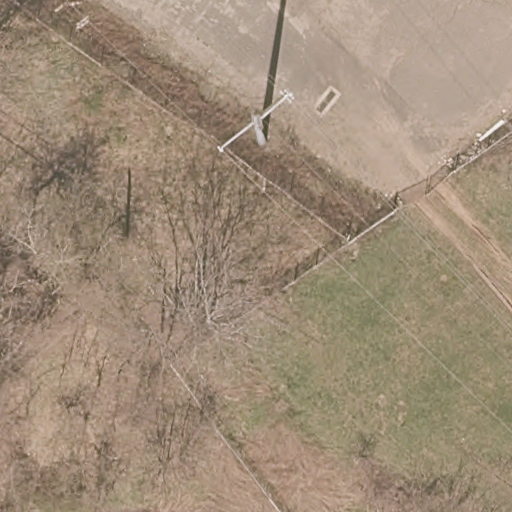DT: (212, 86, 295, 157)
